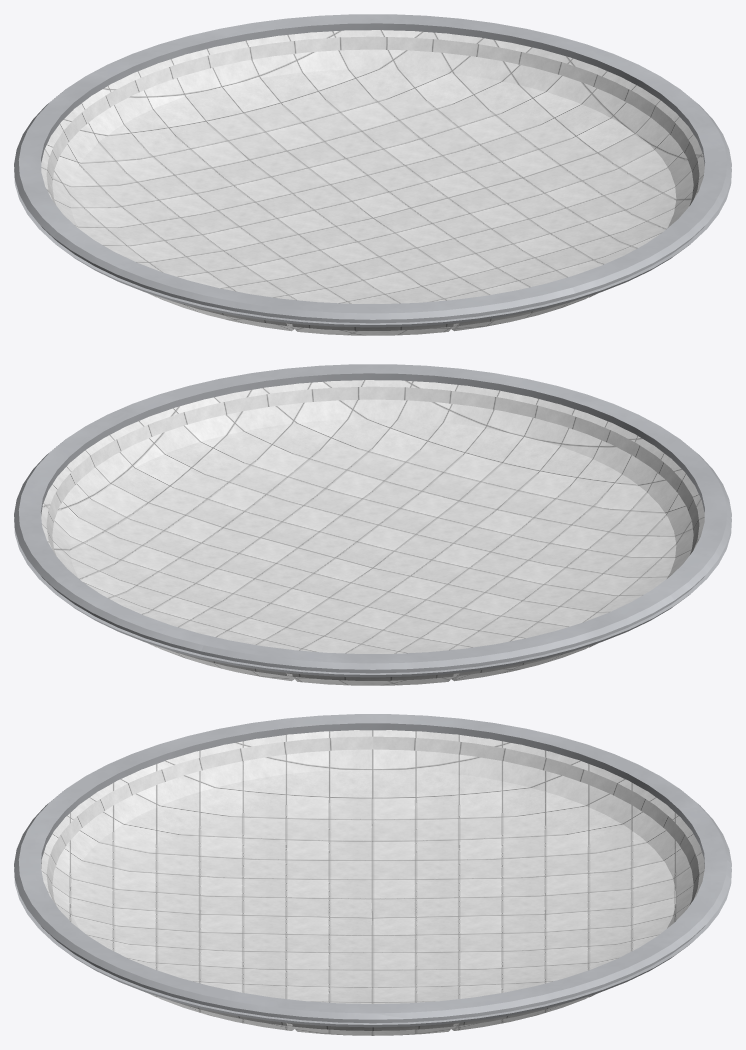
Rendered from ax_cmd_15_heat_shield_m.glb.
The picture shows the model from 3 angles, top to bottom: view 1: azimuth 30°, elevation 25°; view 2: azimuth 150°, elevation 25°; view 3: azimuth 270°, elevation 25°; orthographic projection.
Parts seen in each view (by area): view 1: ablator_dish, carrier_ring; view 2: ablator_dish, carrier_ring; view 3: ablator_dish, carrier_ring.
Boxes of the visible parts, x1=… form: ablator_dish: x1=41, y1=30, x2=704, y2=335; carrier_ring: x1=14, y1=14, x2=731, y2=327; ablator_dish: x1=41, y1=380, x2=704, y2=685; carrier_ring: x1=14, y1=364, x2=731, y2=677; ablator_dish: x1=41, y1=730, x2=704, y2=1035; carrier_ring: x1=14, y1=714, x2=731, y2=1027.
Size of the model in its own units: 2.49 by 0.2483 by 2.49.
Materials: 2 (2 with a texture image).
